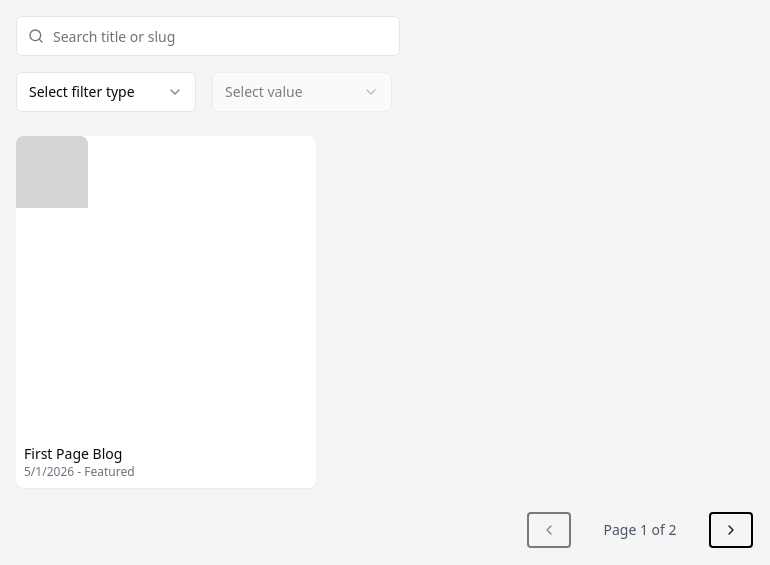
Test: ReadBlogList pagination › fetches admin blog pages using route metadata controls
Check: the heading "First Page Blog" is shown, box [24, 444, 122, 463]
Check: the text "Page 1 of 2" is shown, box [604, 520, 677, 540]
Click the button named "Next blog page" at (730, 530), box [708, 512, 752, 548]
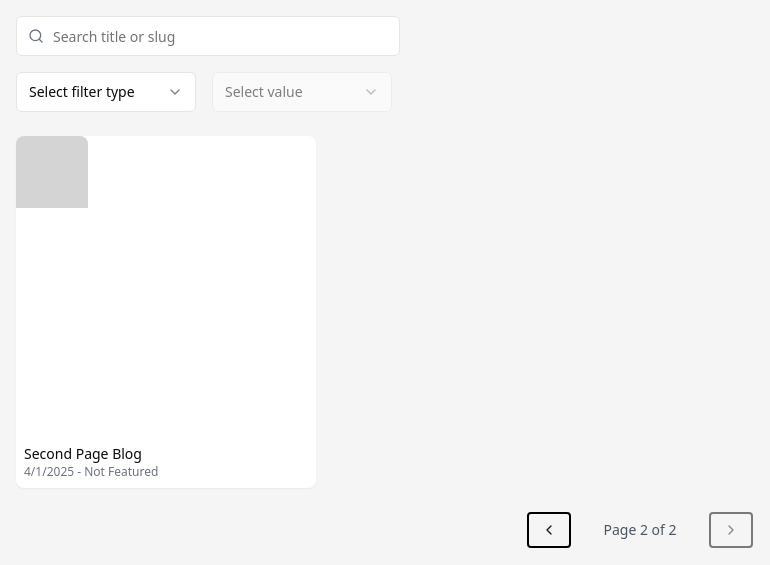
Check: the heading "Second Page Blog" is shown, box [24, 444, 142, 463]
Check: the text "Page 2 of 2" is shown, box [604, 520, 677, 540]
Click the button named "Previous blog page" at (550, 530), box [528, 512, 572, 548]
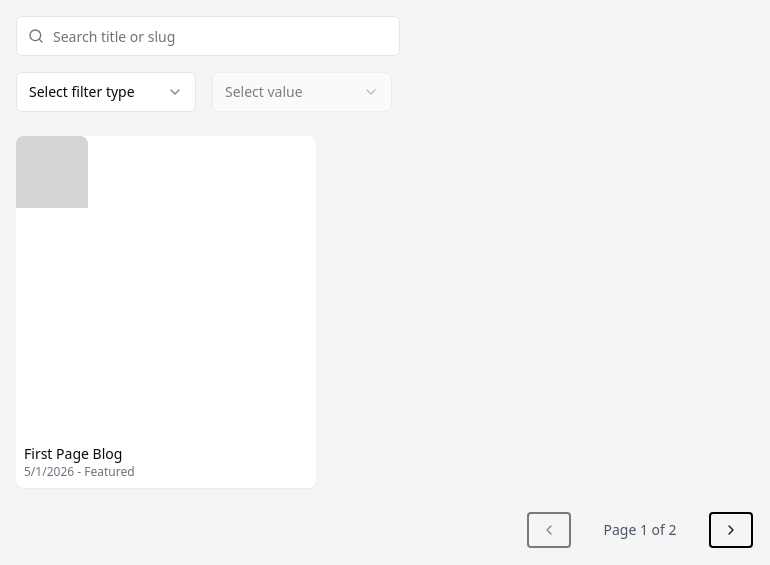
Check: the heading "First Page Blog" is shown, box [24, 444, 122, 463]
